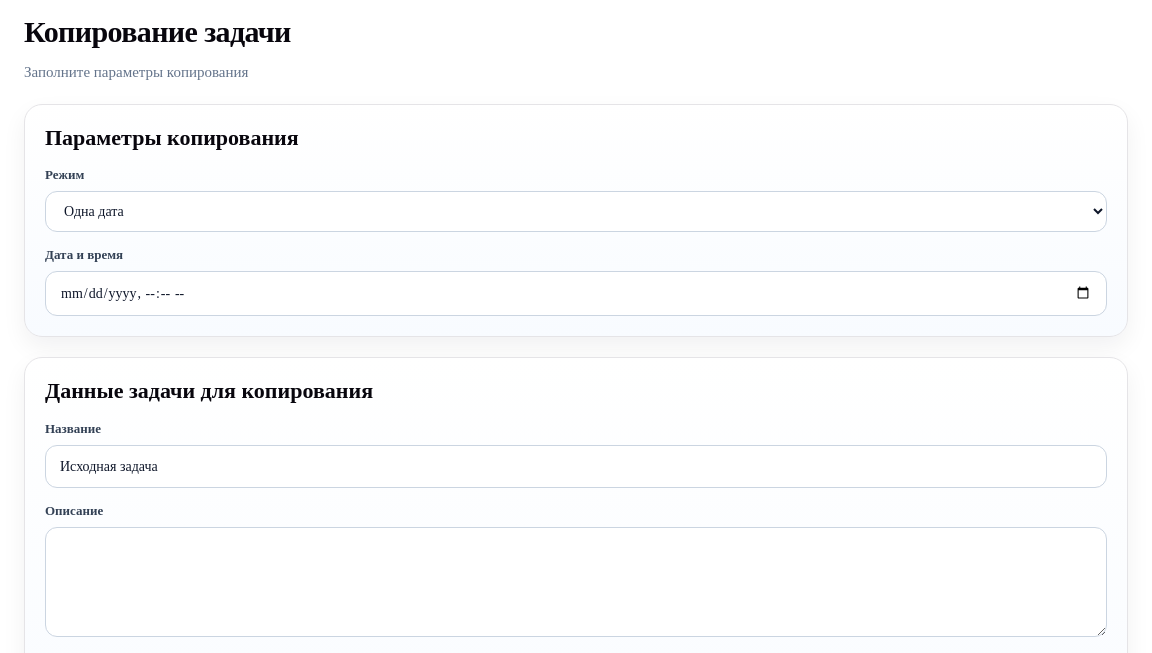
Test: TaskCreate Component › отображает ошибку копирования, если не указана дата/время в режиме single
Clear the field labelled "Дата и время" at (576, 294), box [45,271,1107,316]
(page scrolled)
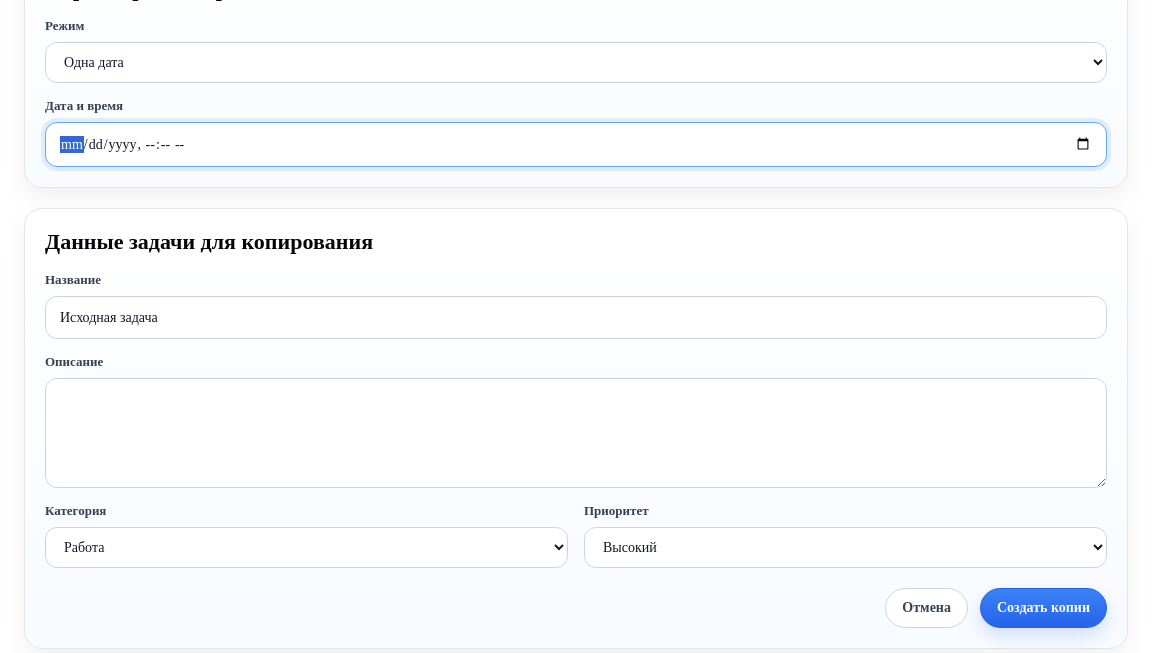
Click the button "Создать копии" at (1043, 608), box [980,588,1107,628]
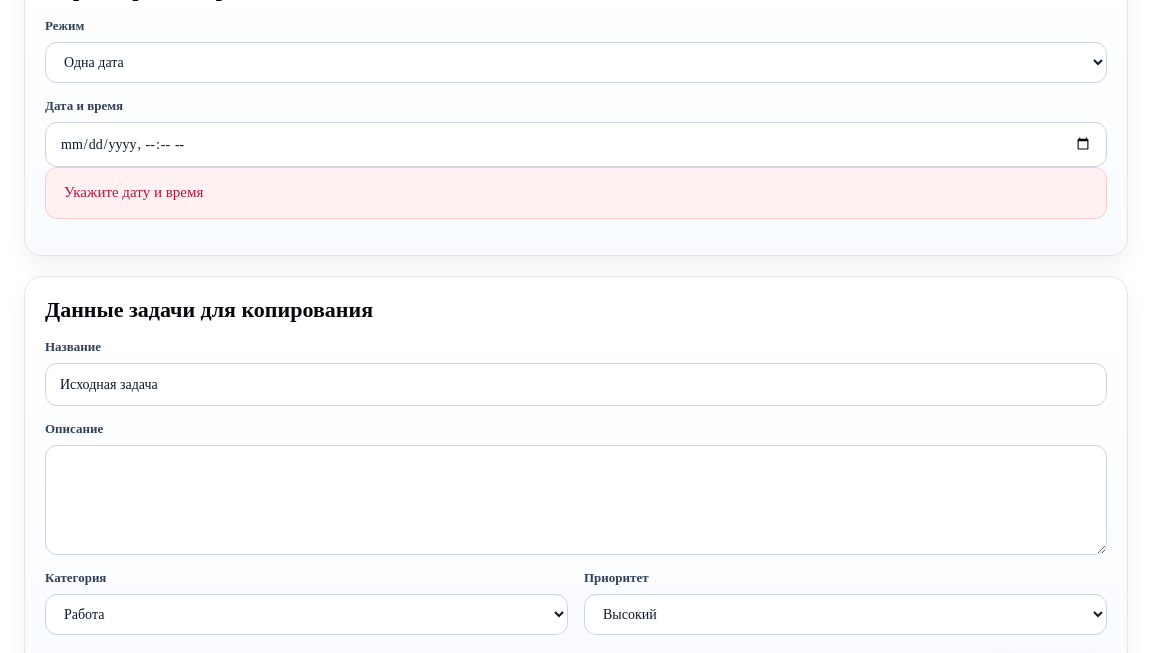
Check: the message reads "Укажите дату и время", box [64,184,203,200]
